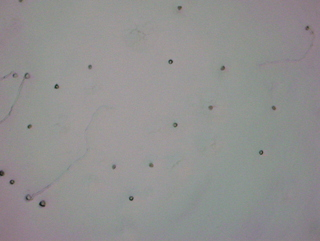germinated: (24, 180, 41, 200), (301, 22, 316, 42), (19, 68, 31, 88), (1, 67, 18, 81)
nongerminated: (254, 146, 269, 160), (146, 158, 159, 172), (124, 190, 137, 204), (107, 160, 122, 172), (23, 120, 36, 133), (49, 80, 62, 92), (37, 196, 48, 210), (268, 101, 280, 113), (83, 61, 95, 73), (163, 56, 176, 67), (173, 2, 186, 13), (205, 102, 217, 113), (169, 119, 180, 130), (6, 175, 17, 186), (217, 63, 227, 73)
